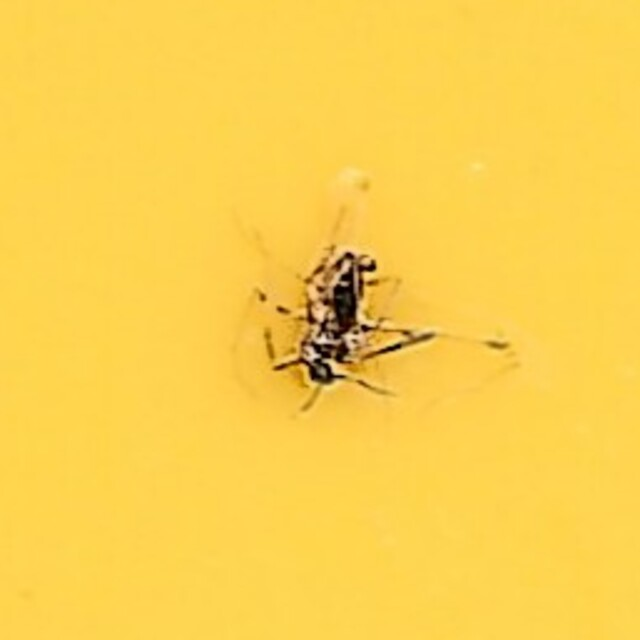Nematocera: (249, 241, 391, 399)
